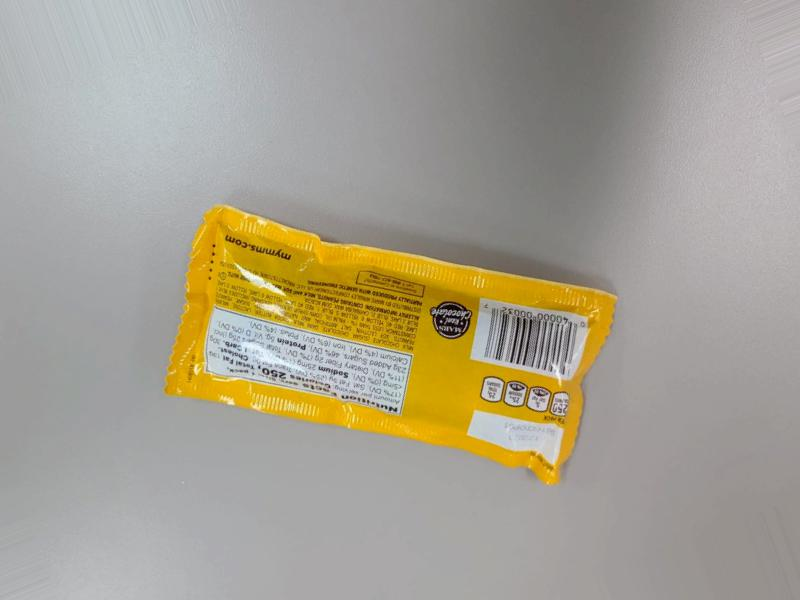m&m: (165, 197, 626, 481)
